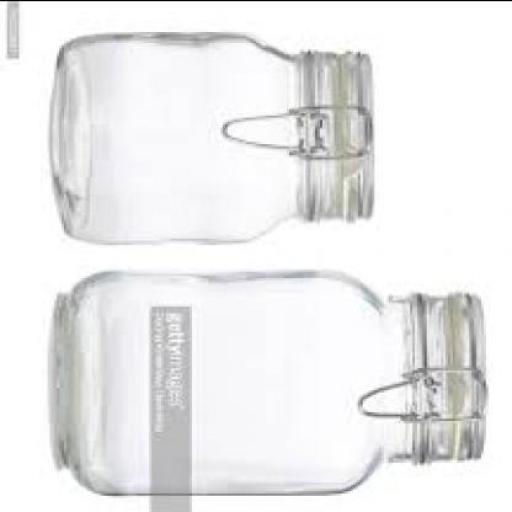glass: (57, 268, 488, 495), (52, 31, 375, 240)
